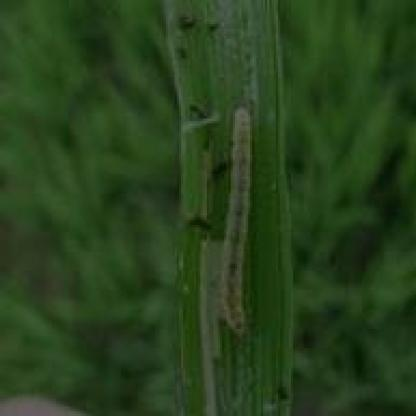leaf-folder: (212, 100, 262, 338)
